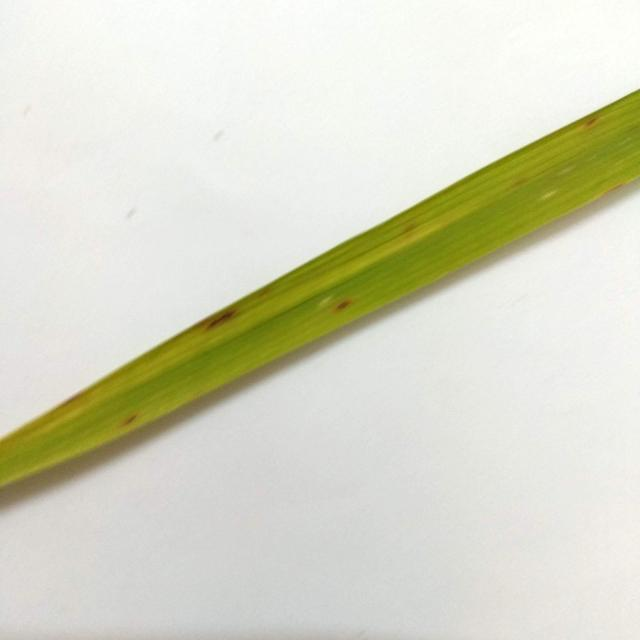Brown spot: (198, 309, 254, 336), (320, 296, 354, 318), (394, 217, 424, 241), (508, 172, 538, 195), (578, 115, 610, 132), (117, 409, 139, 429)
